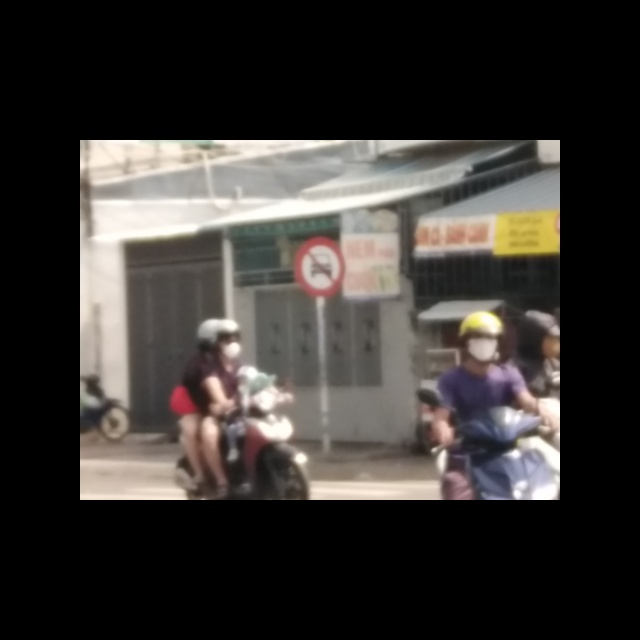Cấm xe ô tô: (292, 236, 347, 299)
